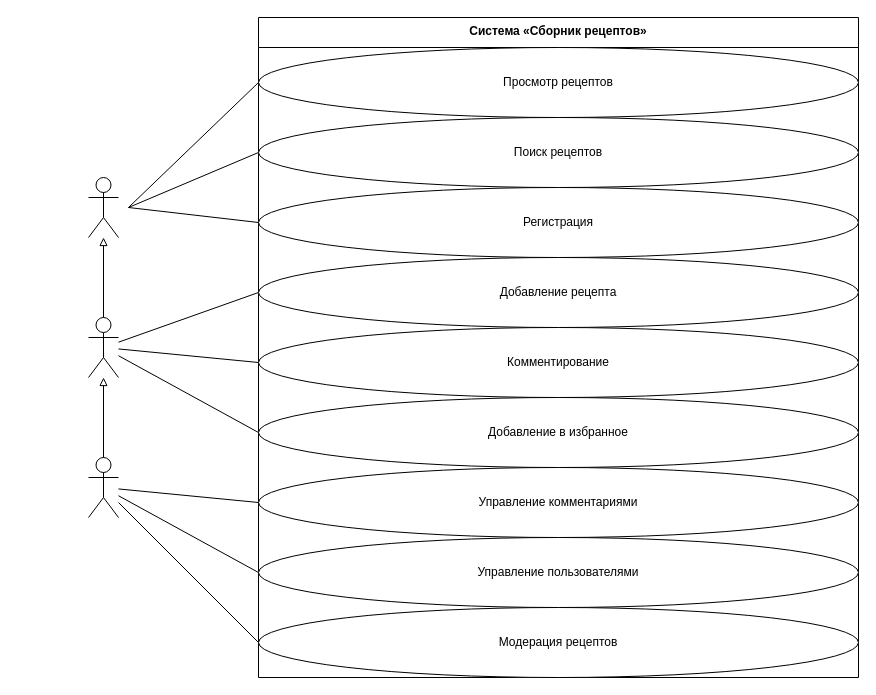
This 876x695 diagram has some shape labels left out. The shapes that lost their labels are listed below. From the top down, each one's centre as x and y in pixels, then its label:
the point at 103,207: Гость
the point at 103,347: Авторизованный пользователь
the point at 103,487: Администратор
